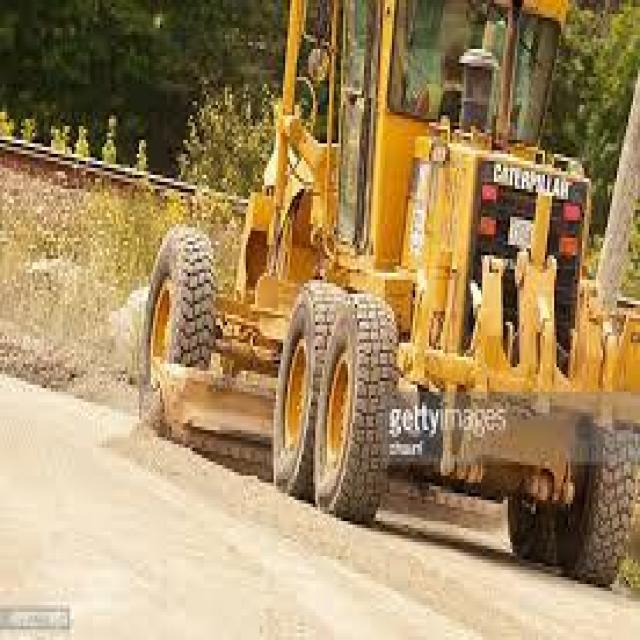Grader: (128, 4, 638, 584)
